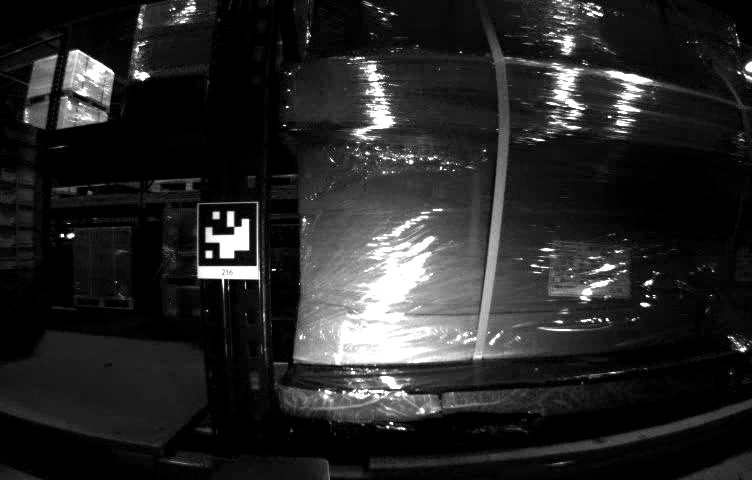True Barcode: (734, 250, 752, 279)
